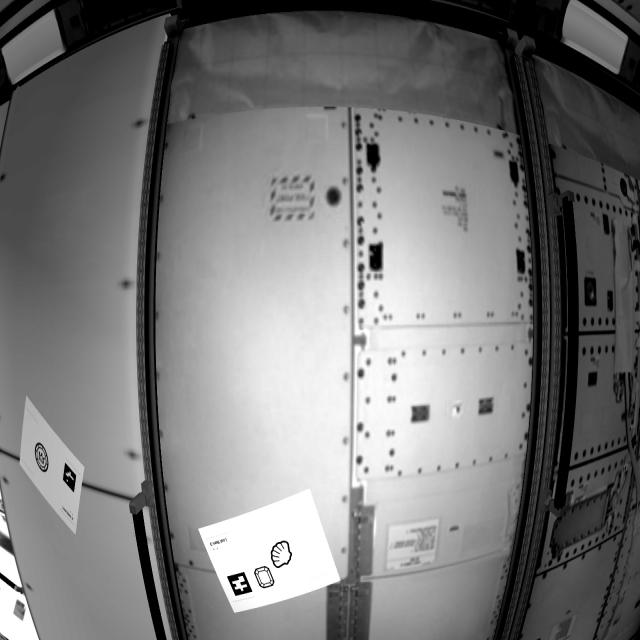coin: (34, 442, 53, 478)
emerald: (254, 563, 278, 592), (34, 442, 53, 478)
shell: (269, 540, 299, 571)
